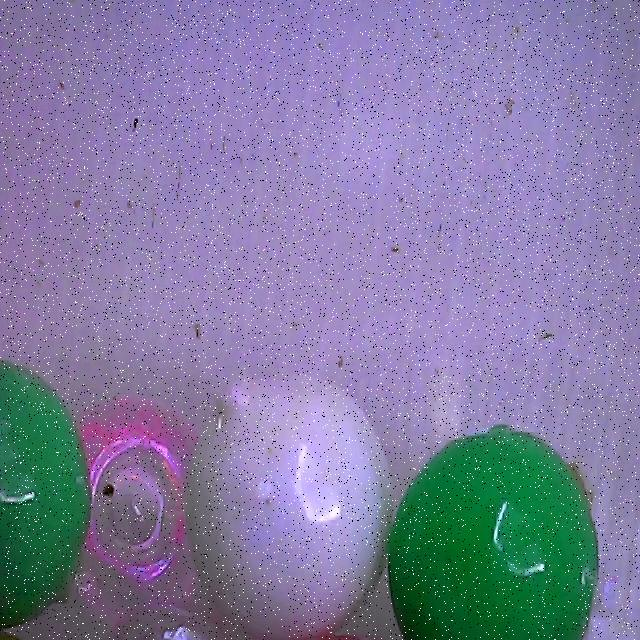beads: (179, 373, 400, 640), (388, 426, 599, 640), (62, 393, 200, 584), (0, 361, 90, 629)
